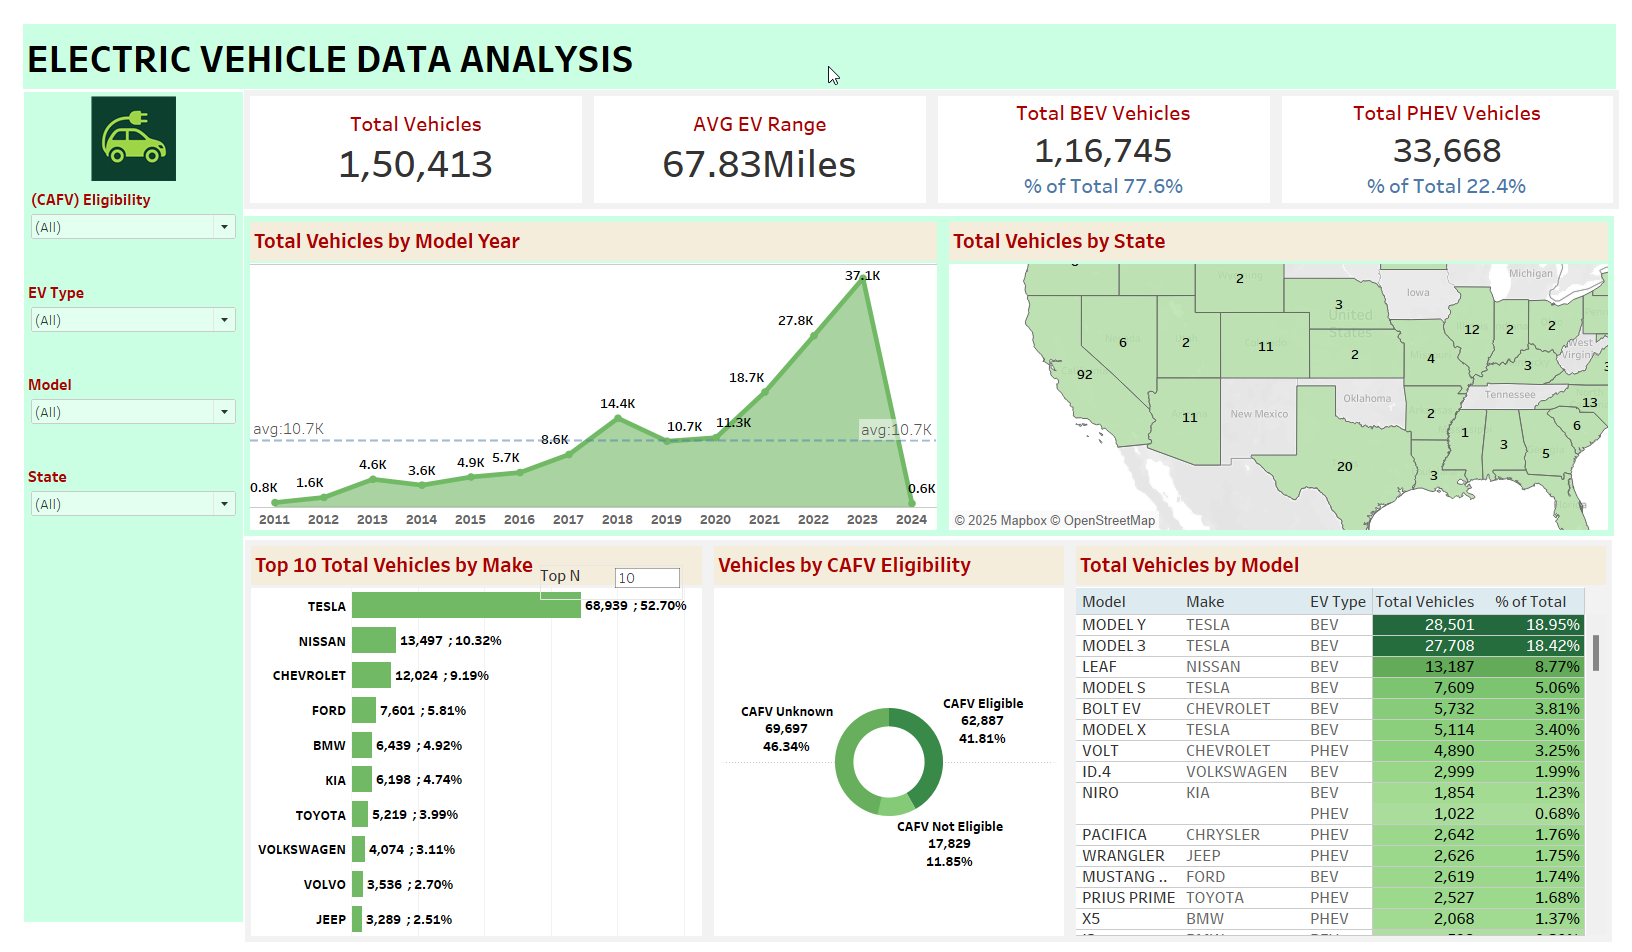

The page's visual inventory and layout, read from the dashboard file:
{"tool":"tableau","page":{"name":"Dashboard 1","canvas":[1600,900],"ordinal":0},"visuals":[{"type":"title","box":[1,1,1593,65]},{"type":"worksheet","title":"Total Vehicals","mark":"Automatic","box":[222,67,344,119]},{"type":"worksheet","title":"Avg EV range","mark":"Automatic","box":[566,67,344,119]},{"type":"worksheet","title":"Total BEV Vehicles","mark":"Automatic","box":[910,67,344,119]},{"type":"worksheet","title":"Total PHEV Vehicles","mark":"Automatic","box":[1254,67,343,119]},{"type":"image","param":"C:/Users/Sagar/OneDrive/Desktop/Data Analyts Projects/Tableu project/ChatGPT Ima","box":[2,69,219,93]},{"type":"filter","title":"Total Vehicles by Model Year ","param":"[federated.1nxumlh0wo800a1en107r0w7odo1].[none:Clean Alternative Fuel Vehicle (C","box":[2,162,219,93]},{"type":"worksheet","title":"Total Vehicles by Model Year ","mark":"Area","rows":["Calculation_784189350470107136","Calculation_784189350470107136"],"cols":["Model Year"],"box":[222,193,699,320]},{"type":"worksheet","title":"Total Vehicles by State","mark":"Multipolygon","box":[921,193,671,320]},{"type":"filter","title":"Total Vehicles by State","param":"[federated.1nxumlh0wo800a1en107r0w7odo1].[none:Electric Vehicle Type:nk]","box":[2,255,219,92]},{"type":"filter","title":"Total Vehicles by State","param":"[federated.1nxumlh0wo800a1en107r0w7odo1].[none:Model:nk]","box":[2,347,219,92]},{"type":"filter","title":"Total Vehicles by State","param":"[federated.1nxumlh0wo800a1en107r0w7odo1].[none:State:nk]","box":[2,439,219,92]},{"type":"blank","box":[2,531,219,92]},{"type":"parameter","param":"[Parameters].[Parameter 1]","box":[518,542,143,35]},{"type":"blank","box":[2,623,219,92]},{"type":"blank","box":[2,715,219,92]},{"type":"blank","box":[2,807,219,92]}]}

Visuals, with their boxes on the page's 1600x900 design canvas (x1, y1, x2, y2). These are canvas units, not pixel positions in the 1632x952 screenshot, which may show the page scaled, cropped or inside an application window:
title: region(1, 1, 1594, 66)
"Total Vehicals" worksheet: region(222, 67, 566, 186)
"Avg EV range" worksheet: region(566, 67, 910, 186)
"Total BEV Vehicles" worksheet: region(910, 67, 1254, 186)
"Total PHEV Vehicles" worksheet: region(1254, 67, 1597, 186)
image: region(2, 69, 221, 162)
"Total Vehicles by Model Year " filter: region(2, 162, 221, 255)
"Total Vehicles by Model Year " worksheet (Area marks): region(222, 193, 921, 513)
"Total Vehicles by State" worksheet (Multipolygon marks): region(921, 193, 1592, 513)
"Total Vehicles by State" filter: region(2, 255, 221, 347)
"Total Vehicles by State" filter: region(2, 347, 221, 439)
"Total Vehicles by State" filter: region(2, 439, 221, 531)
blank: region(2, 531, 221, 623)
parameter: region(518, 542, 661, 577)
blank: region(2, 623, 221, 715)
blank: region(2, 715, 221, 807)
blank: region(2, 807, 221, 899)
